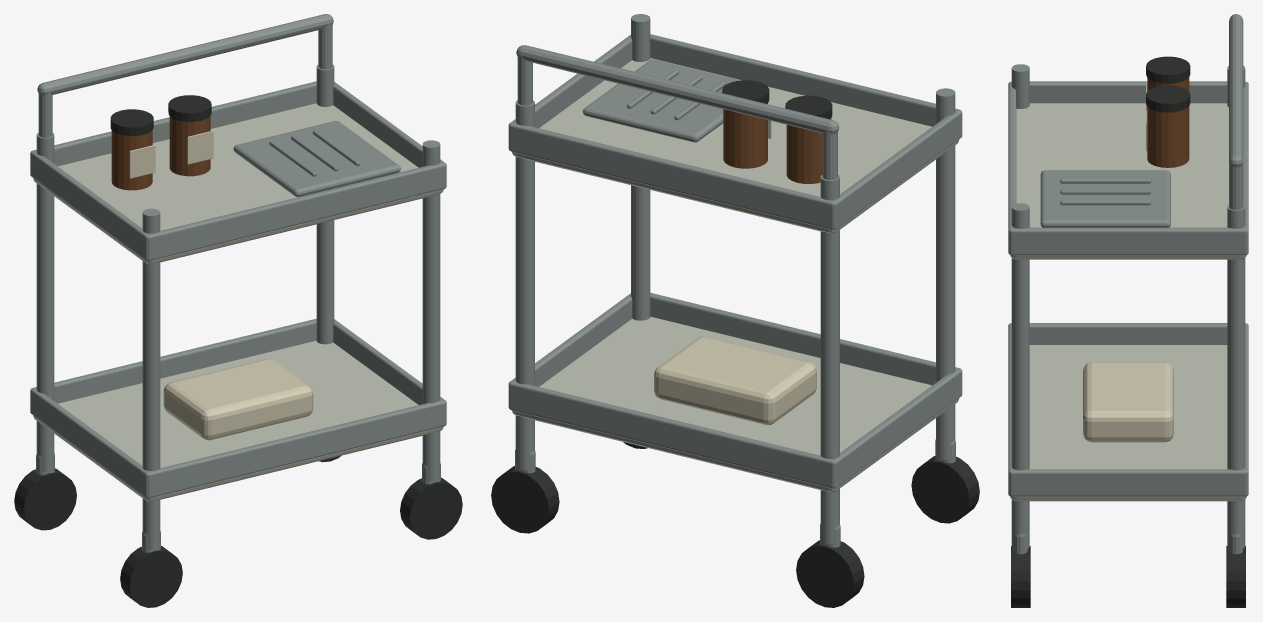
Rendered from medical-cart.fbx.
3 views of the same model, side by side, from view 1: azimuth 30°, elevation 25°; view 2: azimuth 150°, elevation 25°; view 3: azimuth 270°, elevation 25° (orthographic). The views are drawn at different scales.
Parts seen in each view (by area): view 1: Tray shelf, Tray shelf.001, Tray raised lip, Tray raised lip.004, Folded gauze, Instrument tray, Tray raised lip.001, Vertical frame, Vertical frame.002, Vertical frame.001, Push handle, Tray raised lip.005 (+16 smaller); view 2: Tray shelf, Tray shelf.001, Tray raised lip.005, Folded gauze, Tray raised lip.001, Tray raised lip.004, Tray raised lip, Vertical frame, Vertical frame.001, Vertical frame.003, Instrument tray, Push handle (+14 smaller); view 3: Tray shelf, Tray shelf.001, Folded gauze, Tray raised lip.007, Tray raised lip.003, Instrument tray, Vertical frame.002, Vertical frame.003, Tray raised lip.002, Tray raised lip.006, Medicine bottle.001, Push handle (+13 smaller).
Part boxes in pixels (x1,y1,x2,y2): Tray shelf: (33, 340, 443, 501); Tray shelf.001: (33, 103, 443, 264); Tray raised lip: (147, 400, 446, 498); Tray raised lip.004: (147, 163, 446, 260); Folded gauze: (163, 359, 313, 440); Instrument tray: (233, 120, 400, 196); Tray raised lip.001: (31, 318, 316, 403); Vertical frame: (142, 208, 160, 549); Vertical frame.002: (422, 140, 440, 480); Vertical frame.001: (36, 133, 54, 471); Push handle: (37, 14, 333, 95); Tray raised lip.005: (31, 81, 316, 166); Tray shelf: (512, 316, 959, 492); Tray shelf.001: (512, 58, 959, 233); Tray raised lip.005: (509, 122, 834, 229); Folded gauze: (654, 336, 816, 425); Tray raised lip.001: (509, 381, 834, 488); Tray raised lip.004: (650, 34, 961, 126); Tray raised lip: (650, 292, 960, 385); Vertical frame: (936, 88, 955, 459); Vertical frame.001: (820, 174, 839, 544); Vertical frame.003: (515, 100, 534, 469); Instrument tray: (582, 59, 740, 142); Push handle: (516, 45, 839, 134); Tray shelf: (1010, 345, 1246, 501); Tray shelf.001: (1010, 103, 1246, 259); Folded gauze: (1083, 362, 1173, 442); Tray raised lip.007: (1009, 227, 1247, 255); Tray raised lip.003: (1009, 469, 1247, 496); Instrument tray: (1040, 170, 1170, 227); Vertical frame.002: (1011, 203, 1029, 548); Vertical frame.003: (1227, 205, 1245, 548); Tray raised lip.002: (1010, 323, 1246, 344); Tray raised lip.006: (1011, 81, 1245, 103); Medicine bottle.001: (1147, 106, 1189, 167); Push handle: (1229, 14, 1243, 167).
Bounding box in the file's own units: 0.69 × 0.8775 × 0.424.
